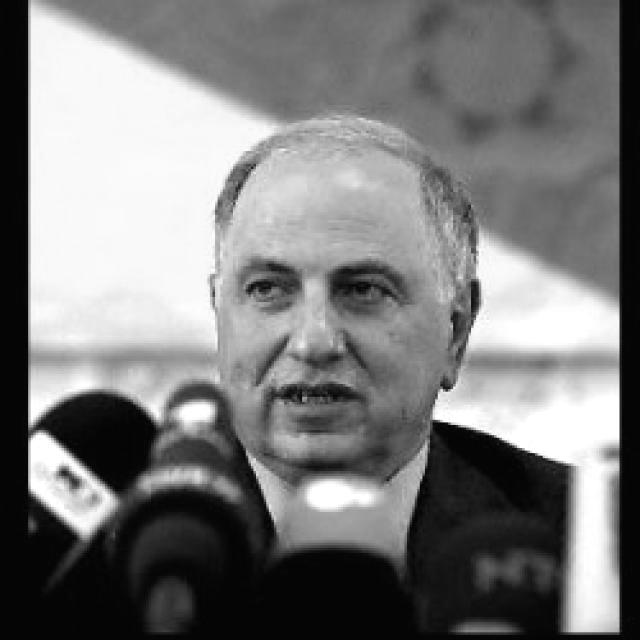real: (216, 137, 450, 480), (233, 259, 398, 318)
